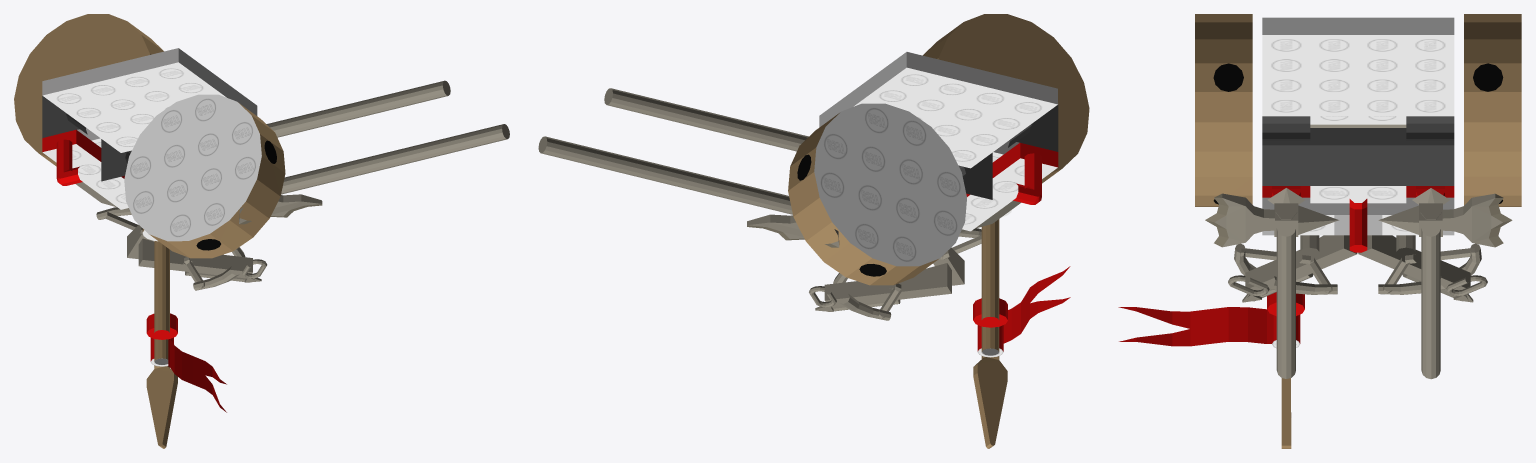
3 renders of one model, left to right at view 1: azimuth 30°, elevation 25°; view 2: azimuth 150°, elevation 25°; view 3: azimuth 270°, elevation 25°, orthographic. The views are drawn at different scales.
Visible parts, largest first — view 1: 033_shape13, 083_shape36, 028_shape13, 016_shape2, 071_shape27, 010_shape2, 068_shape26, 093_shape43, 087_shape39, 050_shape18, 060_shape26, 091_shape41 (+1 smaller); view 2: 028_shape13, 083_shape36, 033_shape13, 010_shape2, 071_shape27, 060_shape26, 016_shape2, 093_shape43, 087_shape39, 050_shape18, 047_shape15, 091_shape41 (+2 smaller); view 3: 083_shape36, 087_shape39, 028_shape13, 033_shape13, 010_shape2, 016_shape2, 060_shape26, 068_shape26, 050_shape18, 020_shape7, 081_shape35, 079_shape33 (+3 smaller).
Part boxes in pixels (left/top/right/bottom): 033_shape13: left=124, top=94, right=285, bottom=258; 083_shape36: left=42, top=48, right=257, bottom=152; 028_shape13: left=14, top=14, right=163, bottom=166; 016_shape2: left=239, top=124, right=509, bottom=224; 071_shape27: left=146, top=241, right=177, bottom=448; 010_shape2: left=266, top=80, right=450, bottom=137; 068_shape26: left=138, top=238, right=267, bottom=290; 093_shape43: left=42, top=129, right=128, bottom=209; 087_shape39: left=42, top=95, right=131, bottom=181; 050_shape18: left=170, top=339, right=226, bottom=412; 060_shape26: left=96, top=207, right=153, bottom=258; 091_shape41: left=56, top=139, right=82, bottom=185; 028_shape13: left=788, top=103, right=966, bottom=285; 083_shape36: left=819, top=52, right=1058, bottom=168; 033_shape13: left=923, top=14, right=1089, bottom=183; 010_shape2: left=538, top=136, right=839, bottom=247; 071_shape27: left=973, top=219, right=1007, bottom=448; 060_shape26: left=809, top=263, right=951, bottom=320; 016_shape2: left=604, top=88, right=808, bottom=151; 093_shape43: left=962, top=143, right=1058, bottom=231; 087_shape39: left=958, top=105, right=1058, bottom=199; 050_shape18: left=1003, top=266, right=1070, bottom=343; 047_shape15: left=973, top=298, right=1007, bottom=357; 091_shape41: left=1013, top=153, right=1041, bottom=204; 083_shape36: left=1262, top=17, right=1454, bottom=116; 087_shape39: left=1262, top=116, right=1454, bottom=185; 028_shape13: left=1464, top=14, right=1521, bottom=206; 033_shape13: left=1195, top=14, right=1252, bottom=206; 010_shape2: left=1378, top=188, right=1512, bottom=379; 016_shape2: left=1205, top=188, right=1338, bottom=378; 060_shape26: left=1358, top=235, right=1487, bottom=295; 068_shape26: left=1228, top=235, right=1357, bottom=295; 050_shape18: left=1118, top=307, right=1266, bottom=346; 020_shape7: left=1262, top=124, right=1454, bottom=235; 081_shape35: left=1310, top=186, right=1406, bottom=203; 079_shape33: left=1349, top=199, right=1367, bottom=252.
Bounding box in the file's own units: 9.82 × 8.02 × 6.72.
Materials: 12 (3 with a texture image).
